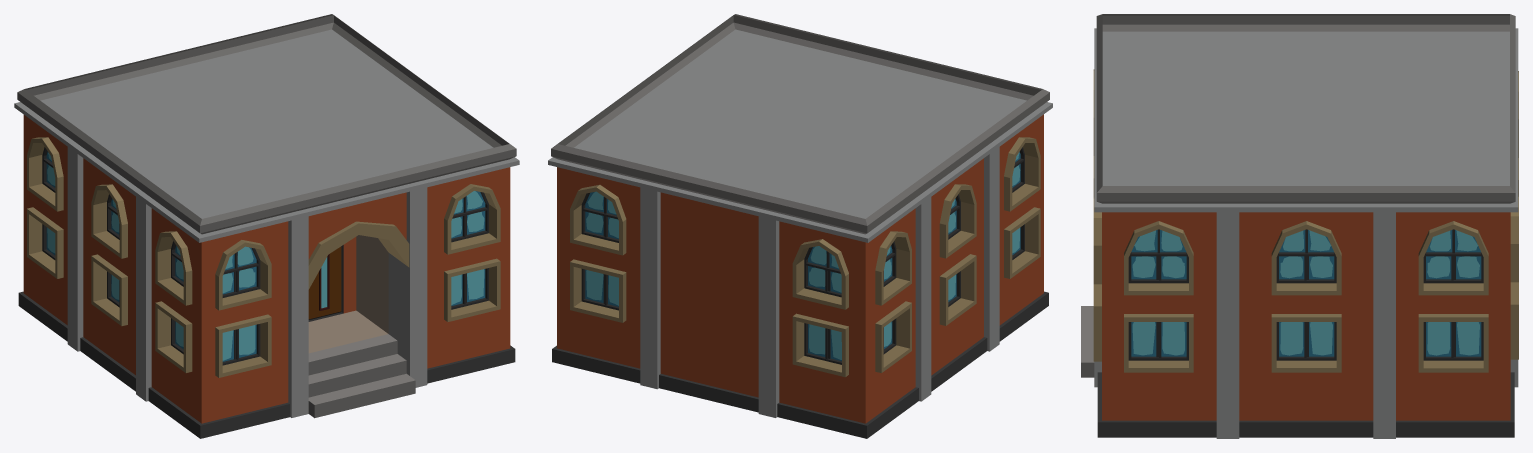
File: Building_E_01_01.FBX
3 views of the same model, side by side, from view 1: azimuth 30°, elevation 25°; view 2: azimuth 150°, elevation 25°; view 3: azimuth 270°, elevation 25° (orthographic). The views are drawn at different scales.
Parts seen in each view (by area): view 1: Building_E_01_01; view 2: Building_E_01_01; view 3: Building_E_01_01.
Part boxes in pixels (<box>): Building_E_01_01: <box>14,14,519,438</box>; Building_E_01_01: <box>548,14,1052,438</box>; Building_E_01_01: <box>1081,14,1518,438</box>.
Size of the model in its own units: 5.1 by 3.3 by 5.25.
